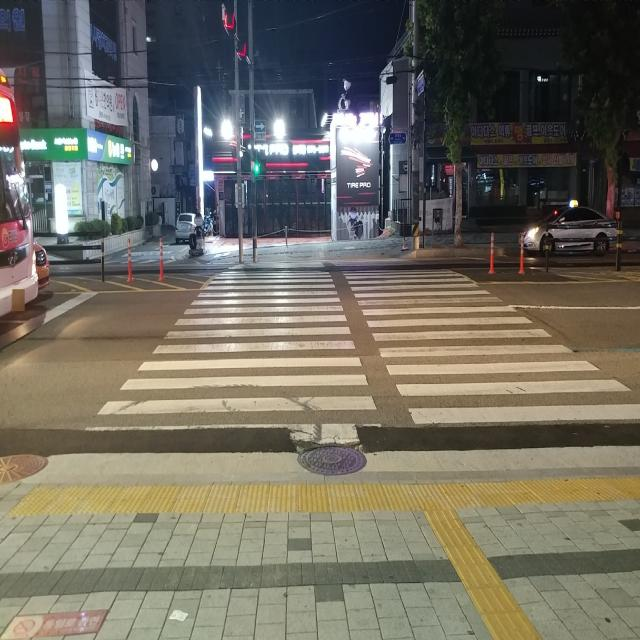초록불: (255, 150, 265, 174)
횡단보도: (85, 271, 640, 444)
